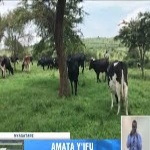Animal: (107, 60, 132, 116), (68, 57, 87, 94), (89, 58, 109, 83), (1, 54, 14, 80), (21, 54, 33, 71), (38, 58, 54, 70)
Uncultivated: (1, 53, 119, 131)
